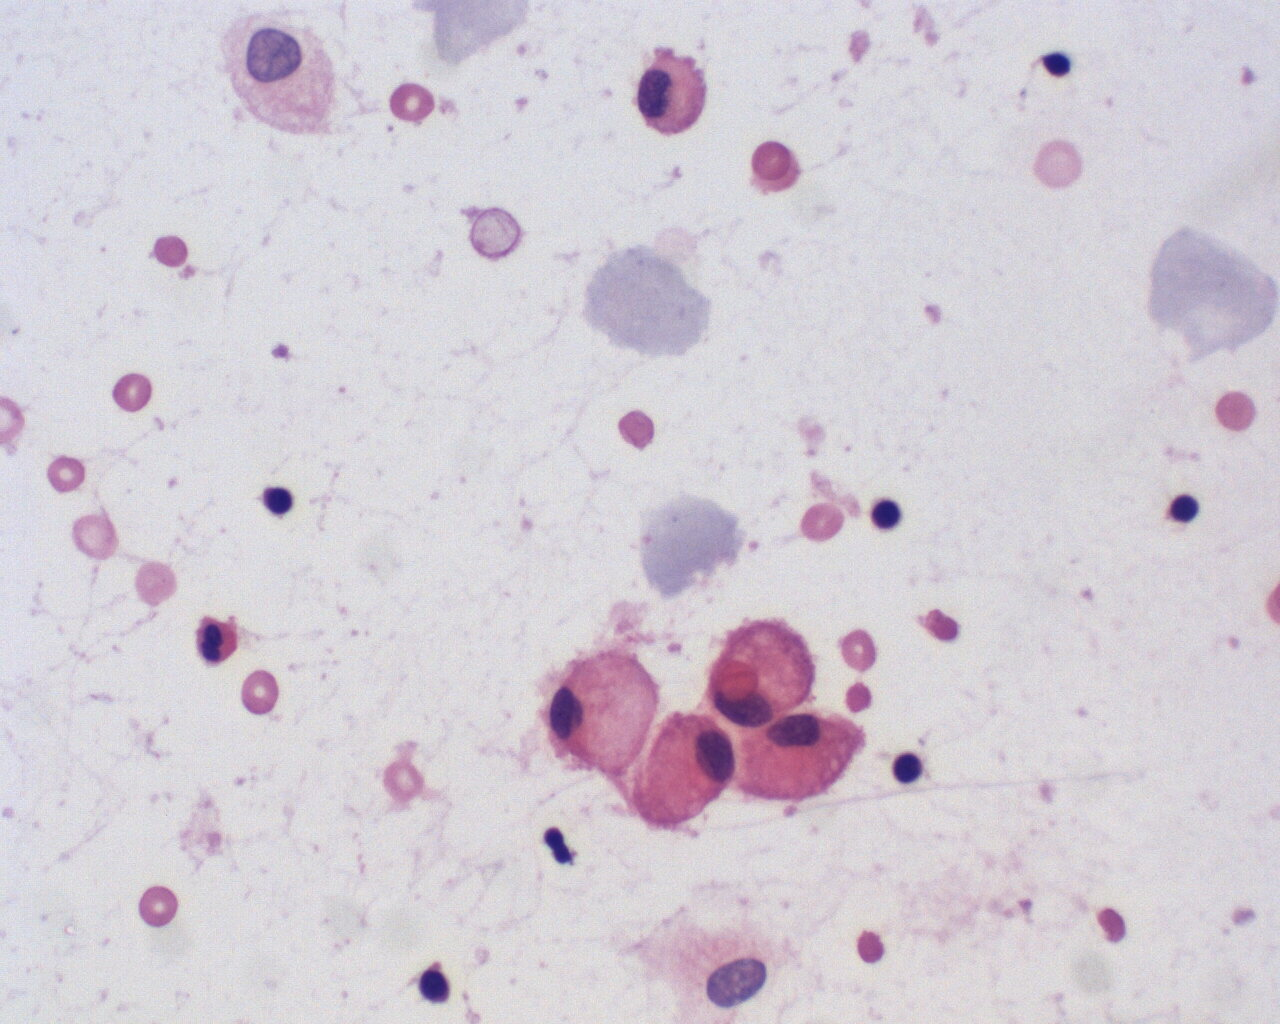histo: (546, 645, 664, 778), (737, 712, 871, 808), (629, 715, 735, 834)
lymph: (257, 484, 300, 523), (888, 749, 930, 787), (1166, 492, 1208, 529), (871, 494, 907, 535)
